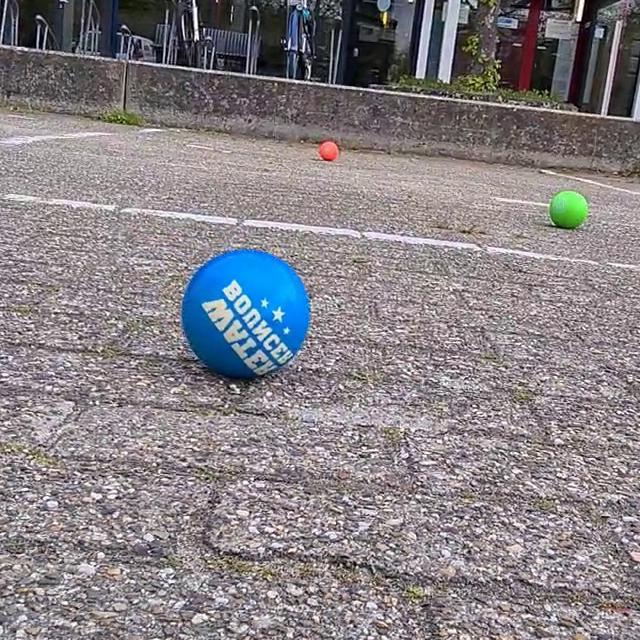ball: (548, 185, 590, 237), (318, 137, 338, 168)
